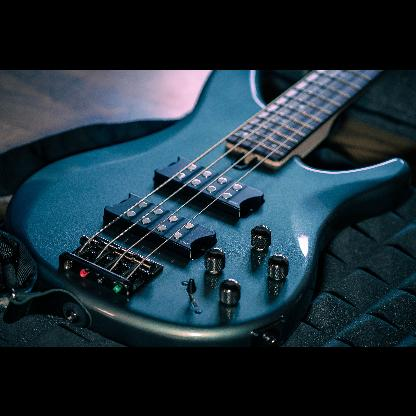bass: (7, 69, 409, 345)
